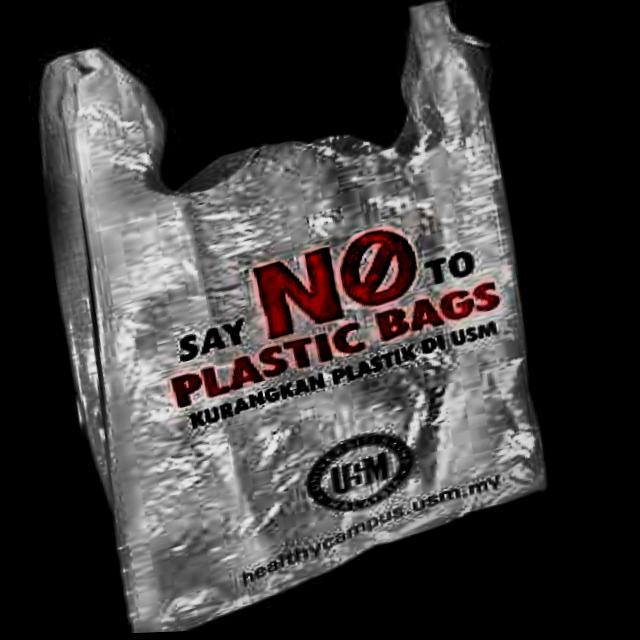Plastic: (0, 0, 638, 640)
